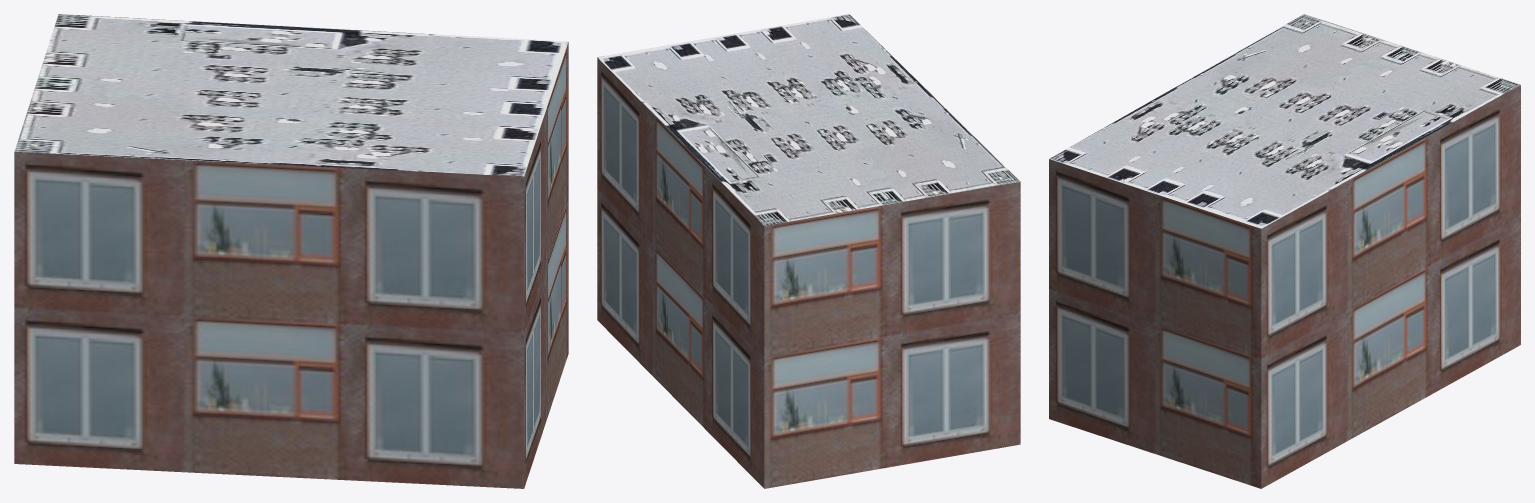
Rendered from ResTex__264.fbx.
The picture shows the model from 3 angles, left to right: view 1: azimuth 30°, elevation 25°; view 2: azimuth 150°, elevation 25°; view 3: azimuth 270°, elevation 25°; orthographic projection. The views are drawn at different scales.
Visible parts, largest first — view 1: CityEngineMaterial_19_m, CityEngineMaterial_15_m; view 2: CityEngineMaterial_19_m, CityEngineMaterial_15_m; view 3: CityEngineMaterial_19_m, CityEngineMaterial_15_m.
Boxes of the visible parts, bbox=[...] form: CityEngineMaterial_19_m: bbox=[14, 42, 568, 488]; CityEngineMaterial_15_m: bbox=[14, 14, 568, 176]; CityEngineMaterial_19_m: bbox=[597, 57, 1020, 488]; CityEngineMaterial_15_m: bbox=[597, 14, 1020, 225]; CityEngineMaterial_19_m: bbox=[1049, 85, 1520, 488]; CityEngineMaterial_15_m: bbox=[1049, 14, 1520, 228].
Size of the model in its own units: 10.63 by 6 by 9.87.
2 materials, 2 textured.
